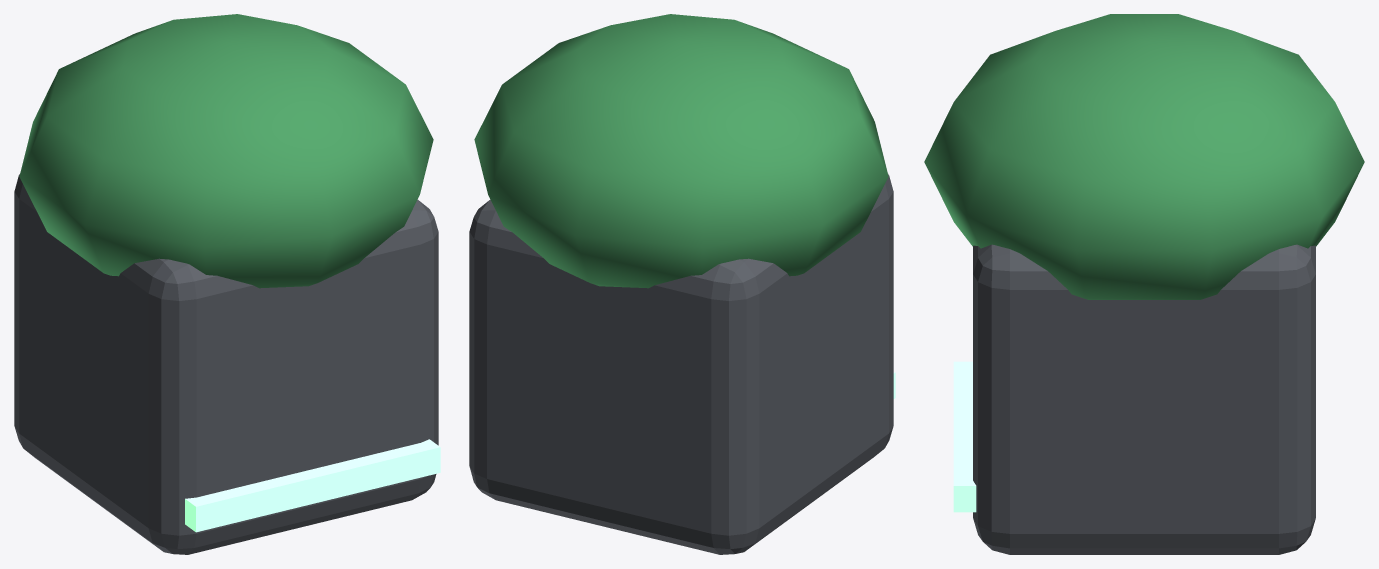
The model's file is plant_small_moss_cube.glb.
3 renders of one model, left to right at view 1: azimuth 30°, elevation 25°; view 2: azimuth 150°, elevation 25°; view 3: azimuth 270°, elevation 25°, orthographic. The views are drawn at different scales.
Visible parts, largest first — view 1: GD_plant_small_moss_cube__m0, GD_plant_small_moss_cube__m1, GD_plant_small_moss_cube__m2; view 2: GD_plant_small_moss_cube__m0, GD_plant_small_moss_cube__m1; view 3: GD_plant_small_moss_cube__m0, GD_plant_small_moss_cube__m1, GD_plant_small_moss_cube__m2.
Boxes of the visible parts, <box> form: GD_plant_small_moss_cube__m0: <box>14,174,438,554</box>; GD_plant_small_moss_cube__m1: <box>19,14,433,288</box>; GD_plant_small_moss_cube__m2: <box>185,439,440,532</box>; GD_plant_small_moss_cube__m0: <box>469,174,893,554</box>; GD_plant_small_moss_cube__m1: <box>474,14,888,288</box>; GD_plant_small_moss_cube__m0: <box>973,244,1315,554</box>; GD_plant_small_moss_cube__m1: <box>924,14,1364,299</box>; GD_plant_small_moss_cube__m2: <box>953,361,976,512</box>.
Size of the model in its own units: 0.1712 by 0.204 by 0.18.
